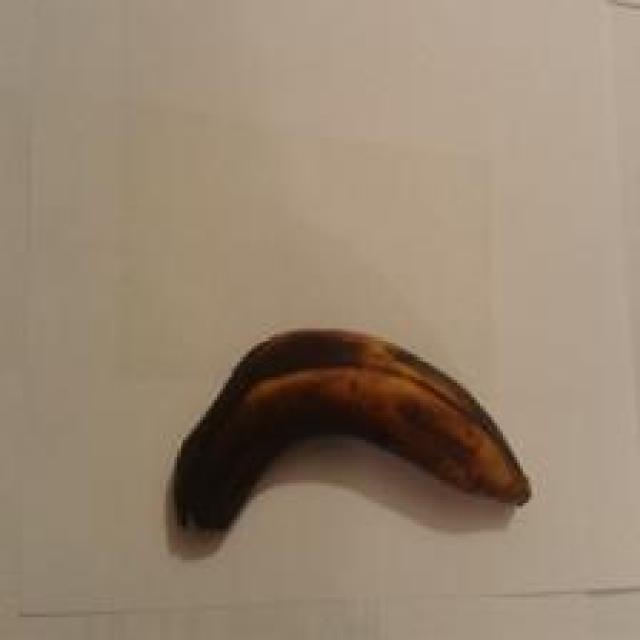Rotten_Banana: (143, 308, 555, 575)
